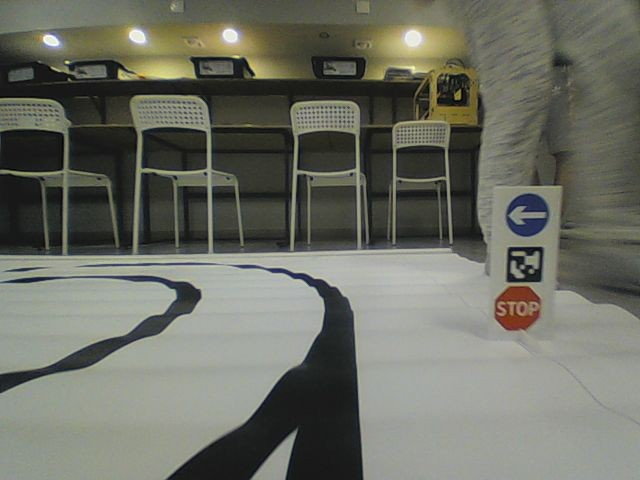Stop: (490, 284, 543, 332)
